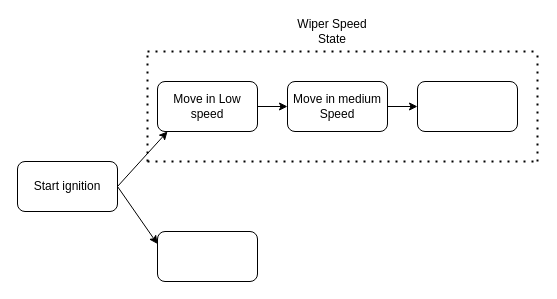
The diagram is 557 pixels wide and 299 high, and some of its shapes have lost their labels. The shapes that lost their labels are listed below. From the top down, each one's box as (x1, y1, x2, y2) in pixels, then its label:
(416, 80, 518, 132): Move in high Speed
(156, 230, 258, 282): Stop Ignition
